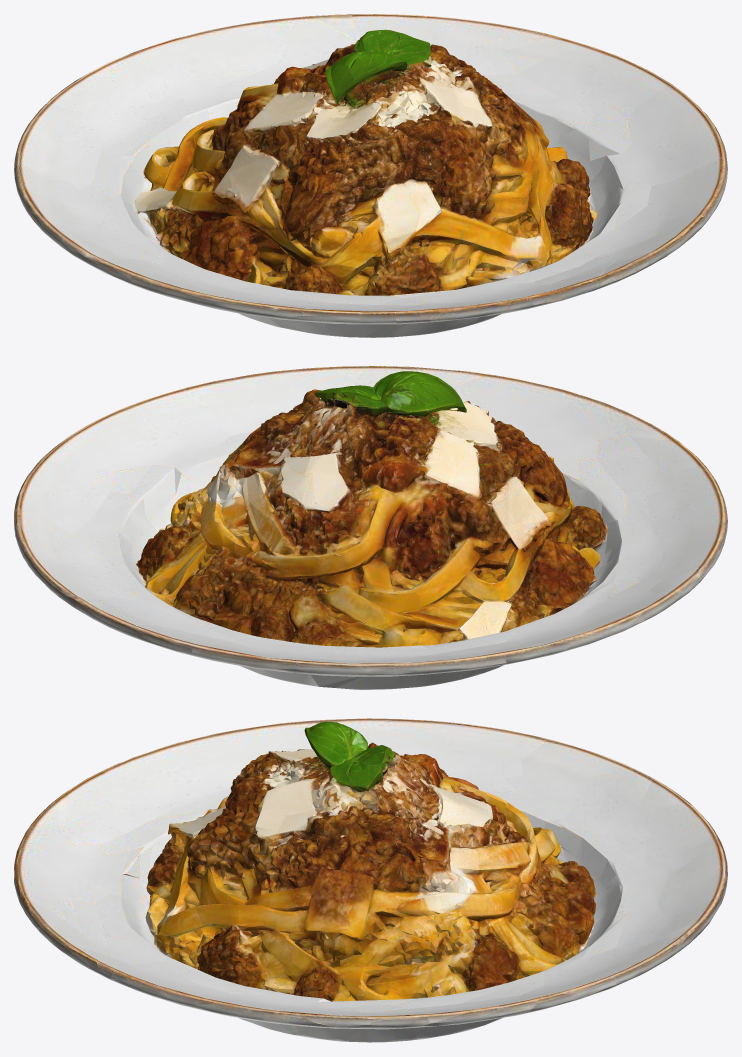
The model's file is tagliatelle-ragu-ar.glb.
The picture shows the model from 3 angles, top to bottom: view 1: azimuth 30°, elevation 25°; view 2: azimuth 150°, elevation 25°; view 3: azimuth 270°, elevation 25°; orthographic projection.
Visible parts, largest first — view 1: Mesh_0; view 2: Mesh_0; view 3: Mesh_0.
Part boxes in pixels (bbox=[...]): Mesh_0: bbox=[14, 14, 727, 337]; Mesh_0: bbox=[14, 366, 727, 689]; Mesh_0: bbox=[14, 718, 727, 1042].
Size of the model in its own units: 0.2898 by 0.1026 by 0.2896.
Materials: 1 (1 with a texture image).
